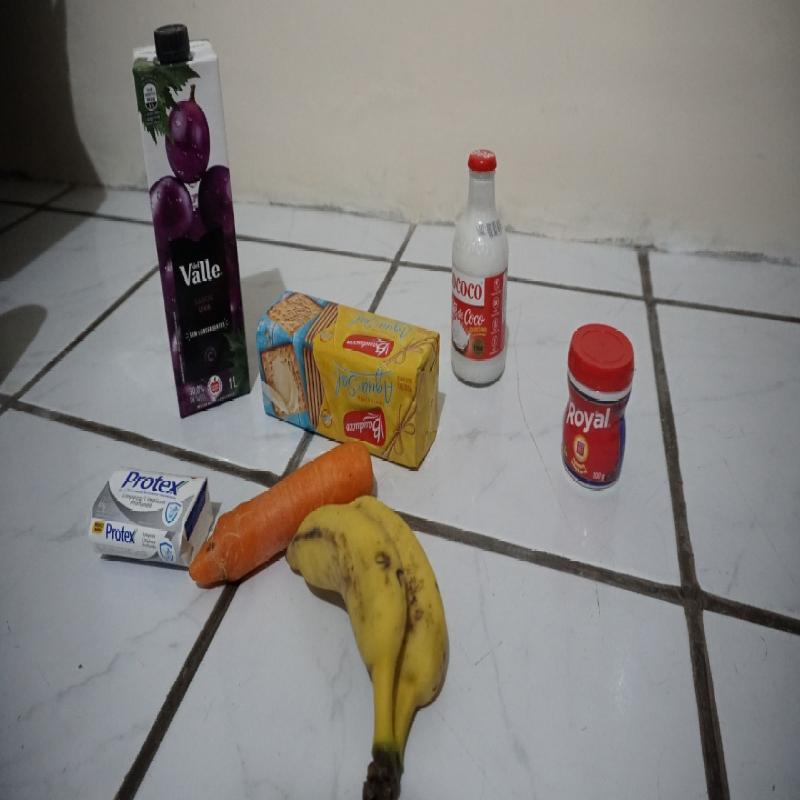Banana: (286, 494, 451, 798)
Carrot: (189, 439, 376, 591)
Coconut Milk: (451, 146, 508, 387)
Cracker: (255, 288, 441, 474)
Soap: (87, 466, 214, 572)
Yeast: (562, 322, 635, 492)
